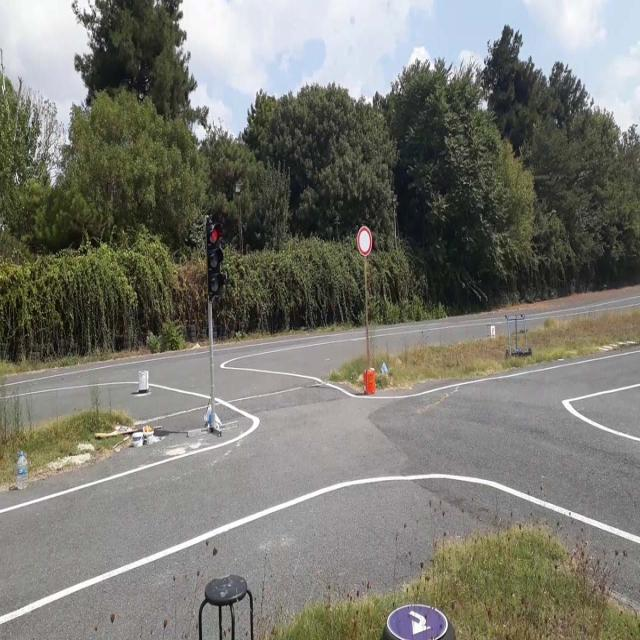kirmizi: (207, 224, 221, 296)
